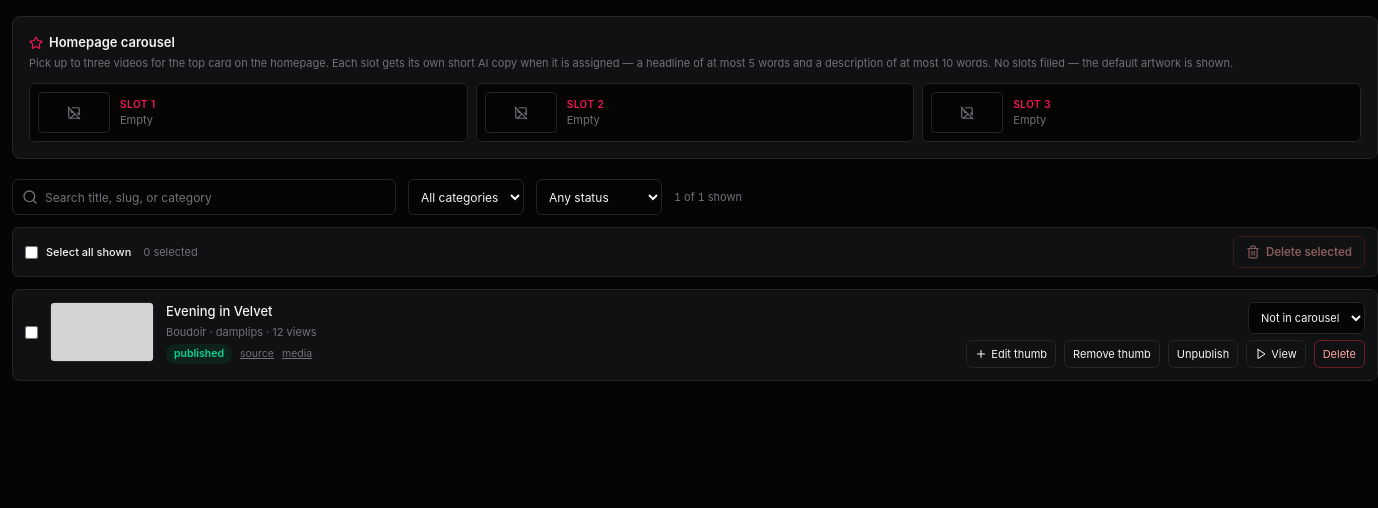
Test: VideoManager — categories, select all, carousel, bulk actions › places a video in a carousel slot through PATCH
The image size is (1378, 508).
Select "Slot 2" in the dropdown named "Homepage carousel slot for Evening in Velvet" at (1306,318), box [1248,302,1365,334]
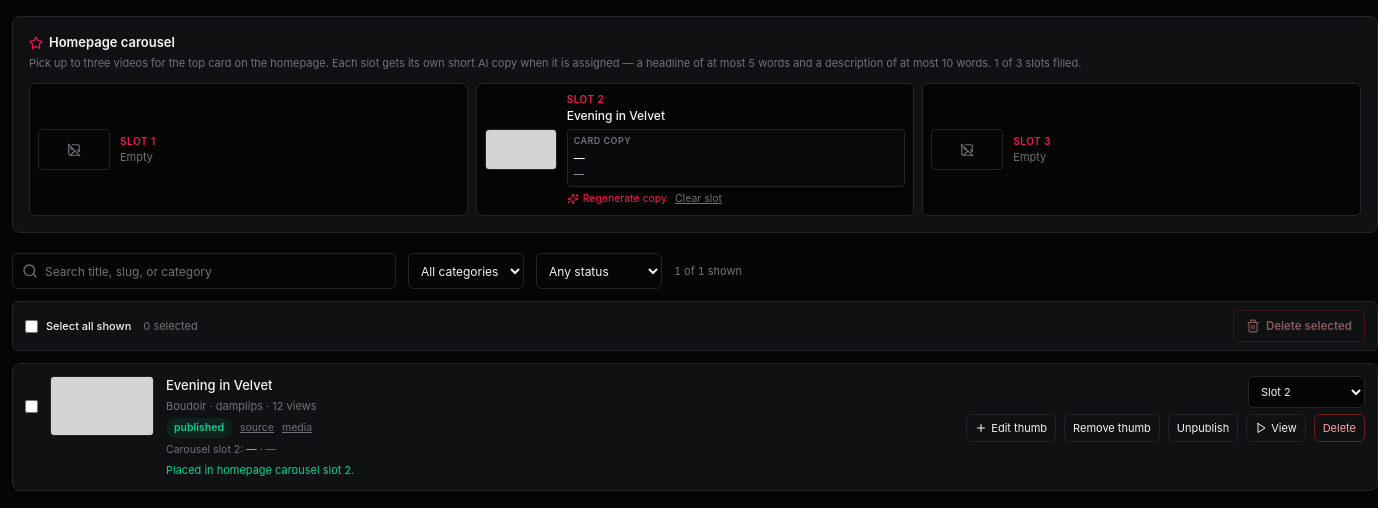
Now the text "Placed in homepage carousel slot 2." is shown, box [166,463,354,477]
